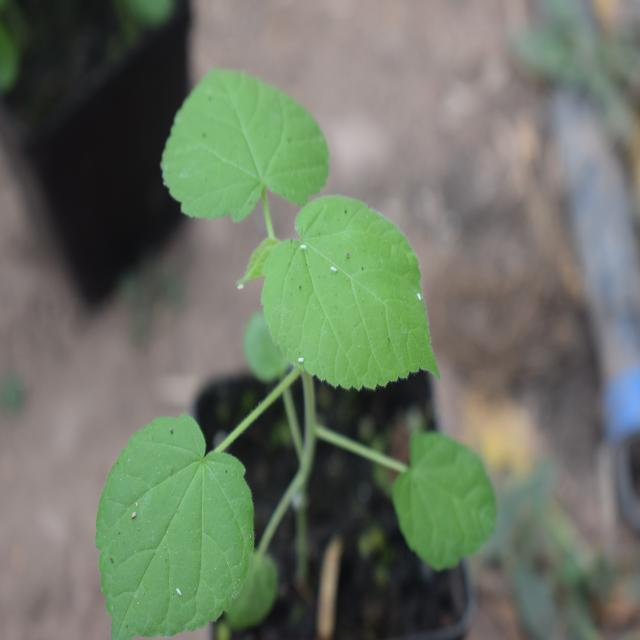abutilon theophrasti: (112, 73, 490, 606)
